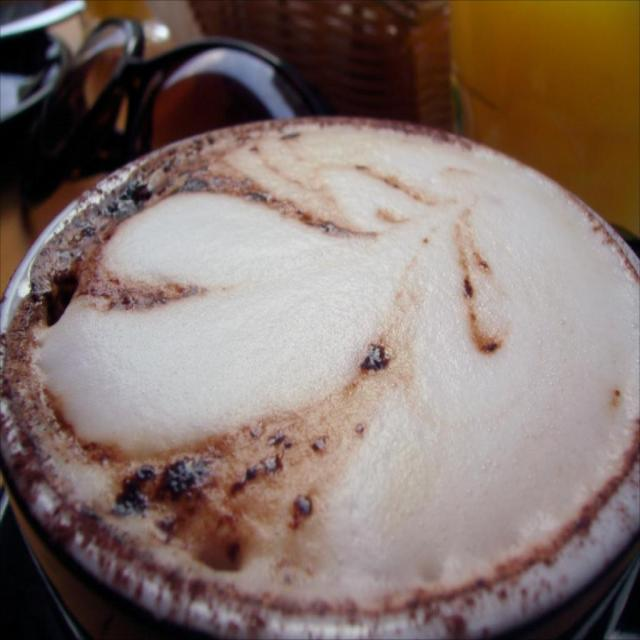Coffee: (12, 113, 640, 640)
